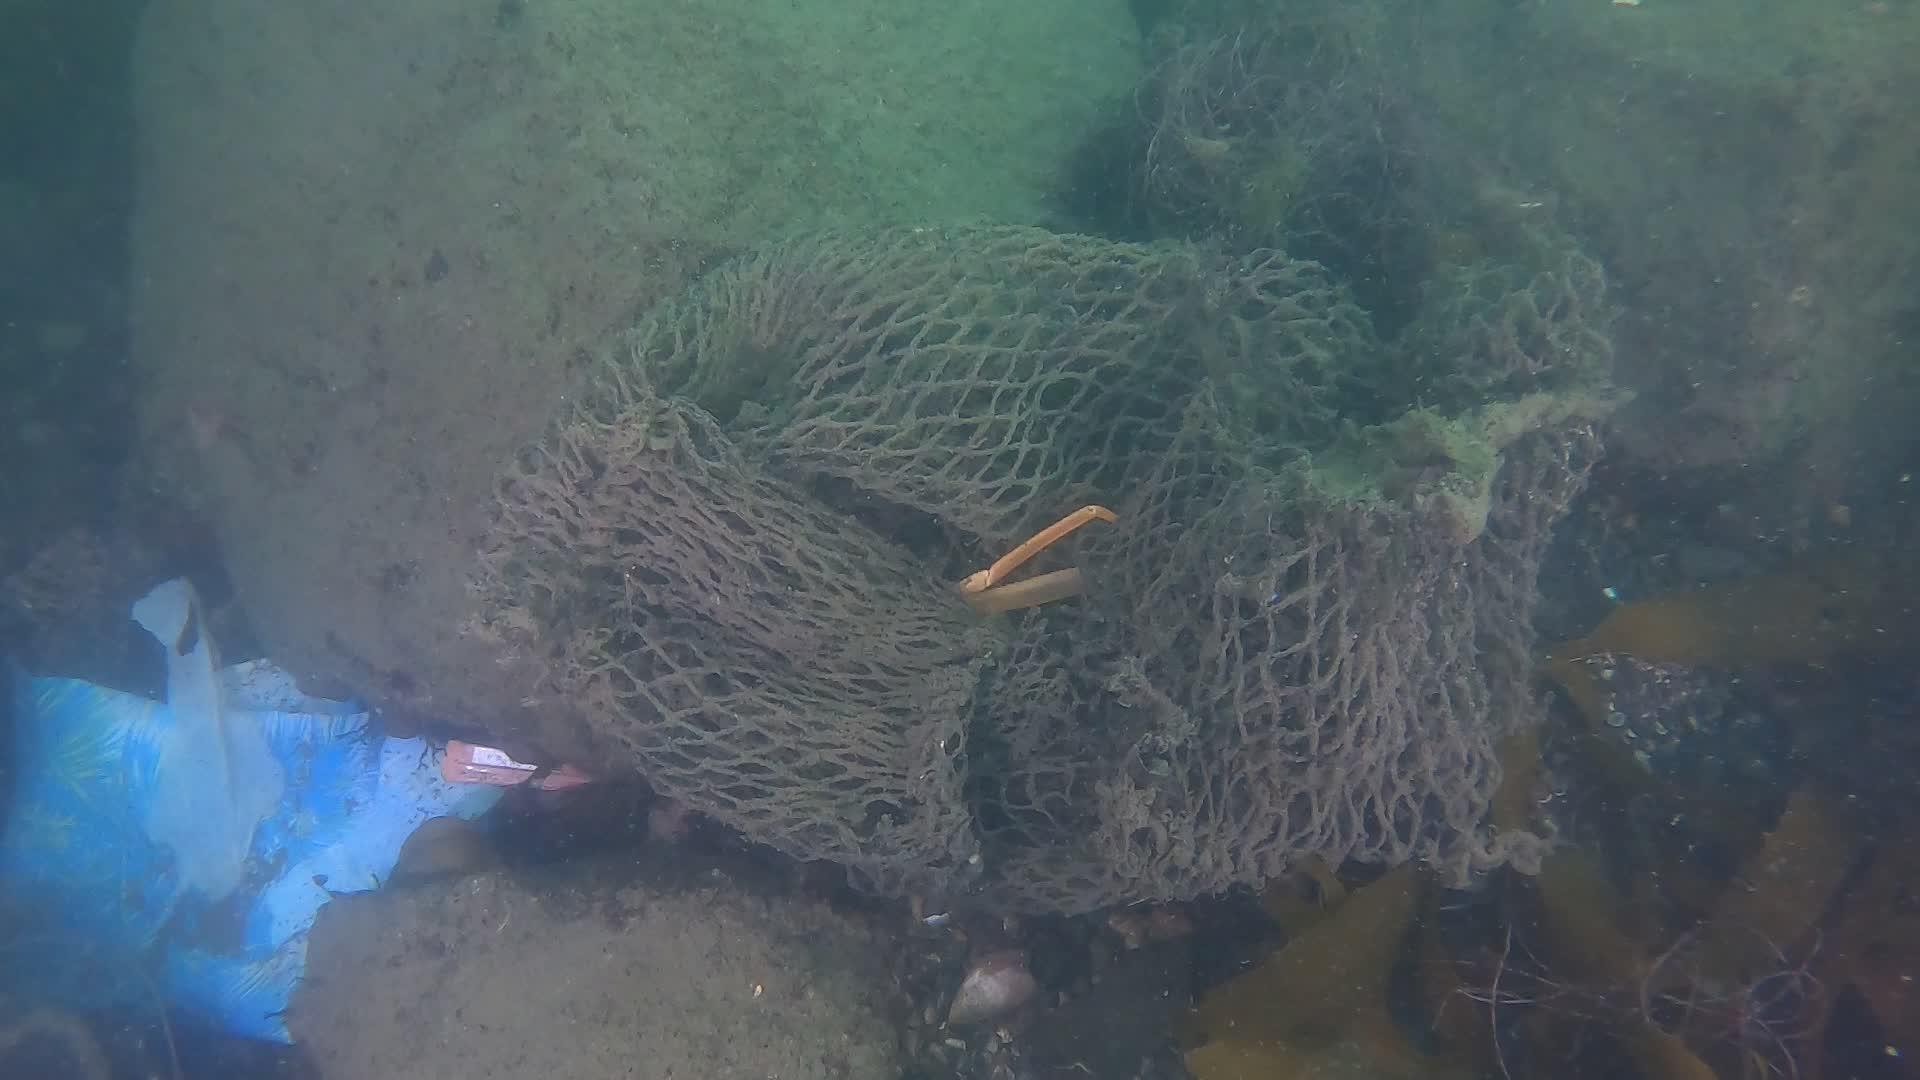fish net: (459, 228, 1615, 910)
